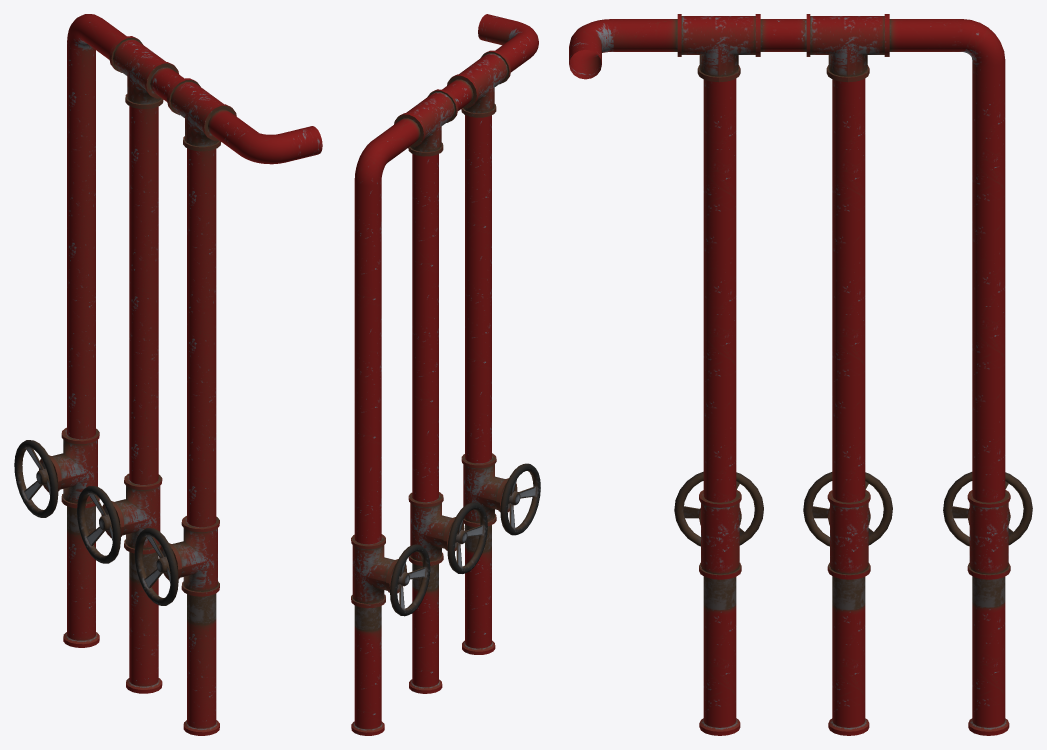
The model's file is CR_MetalPipeC.fbx.
3 renders of one model, left to right at view 1: azimuth 30°, elevation 25°; view 2: azimuth 150°, elevation 25°; view 3: azimuth 270°, elevation 25°, orthographic. The views are drawn at different scales.
Visible parts, largest first — view 1: MetalPipeC; view 2: MetalPipeC; view 3: MetalPipeC.
Part boxes in pixels (x1=…): MetalPipeC: x1=14, y1=14, x2=322, y2=735; MetalPipeC: x1=351, y1=14, x2=540, y2=735; MetalPipeC: x1=569, y1=14, x2=1032, y2=735.
Size of the model in its own units: 53.9 by 320 by 189.
